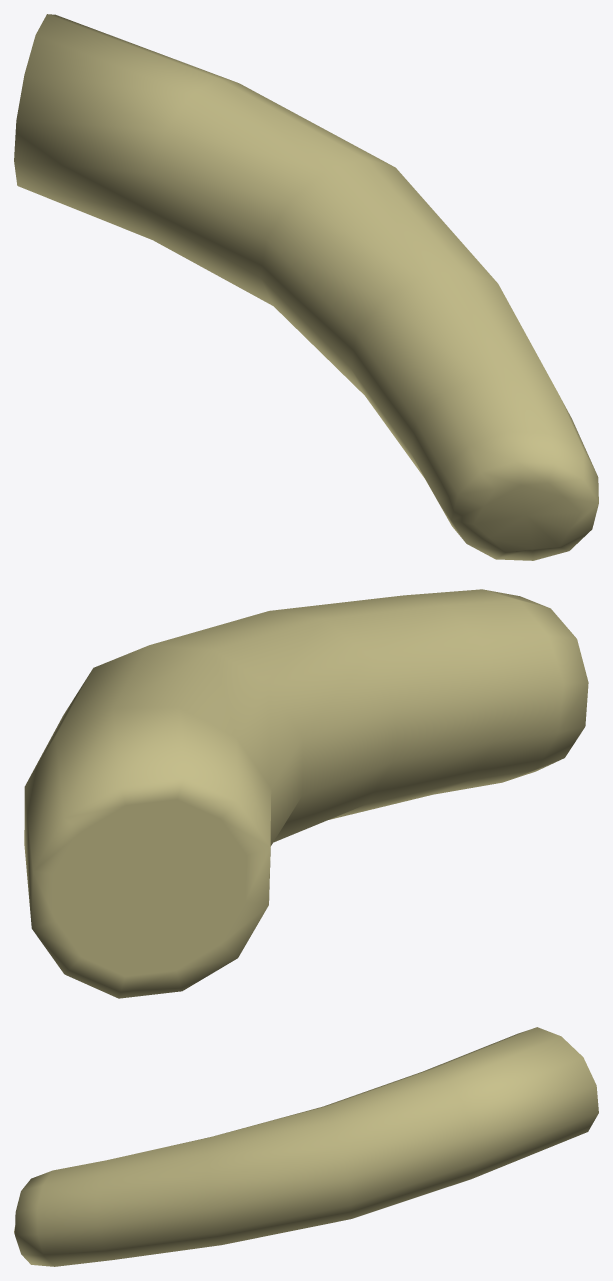
Rendered from Nerves_R2.FBX.
The picture shows the model from 3 angles, top to bottom: view 1: azimuth 30°, elevation 25°; view 2: azimuth 150°, elevation 25°; view 3: azimuth 270°, elevation 25°; orthographic projection. The views are drawn at different scales.
Visible parts, largest first — view 1: Nerves_R2; view 2: Nerves_R2; view 3: Nerves_R2.
Part boxes in pixels (<box>): Nerves_R2: <box>14,14,598,560</box>; Nerves_R2: <box>24,589,588,998</box>; Nerves_R2: <box>14,1027,598,1266</box>.
Size of the model in its own units: 0.0026 by 0.00259 by 0.00709.
